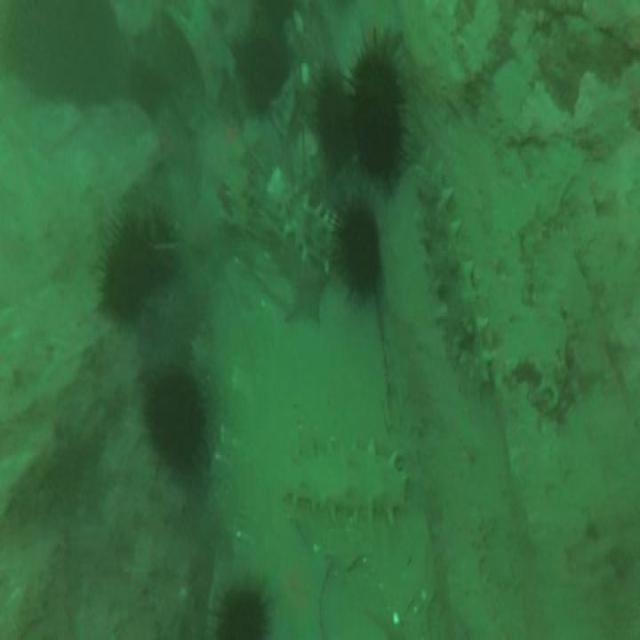echinus: (350, 49, 404, 175), (145, 380, 202, 472), (98, 231, 151, 319), (339, 206, 382, 296), (314, 70, 354, 162), (238, 38, 284, 103), (218, 589, 262, 640)
holothurian: (412, 160, 494, 386), (280, 441, 406, 520), (277, 185, 337, 272)
starfish: (265, 531, 327, 638)
